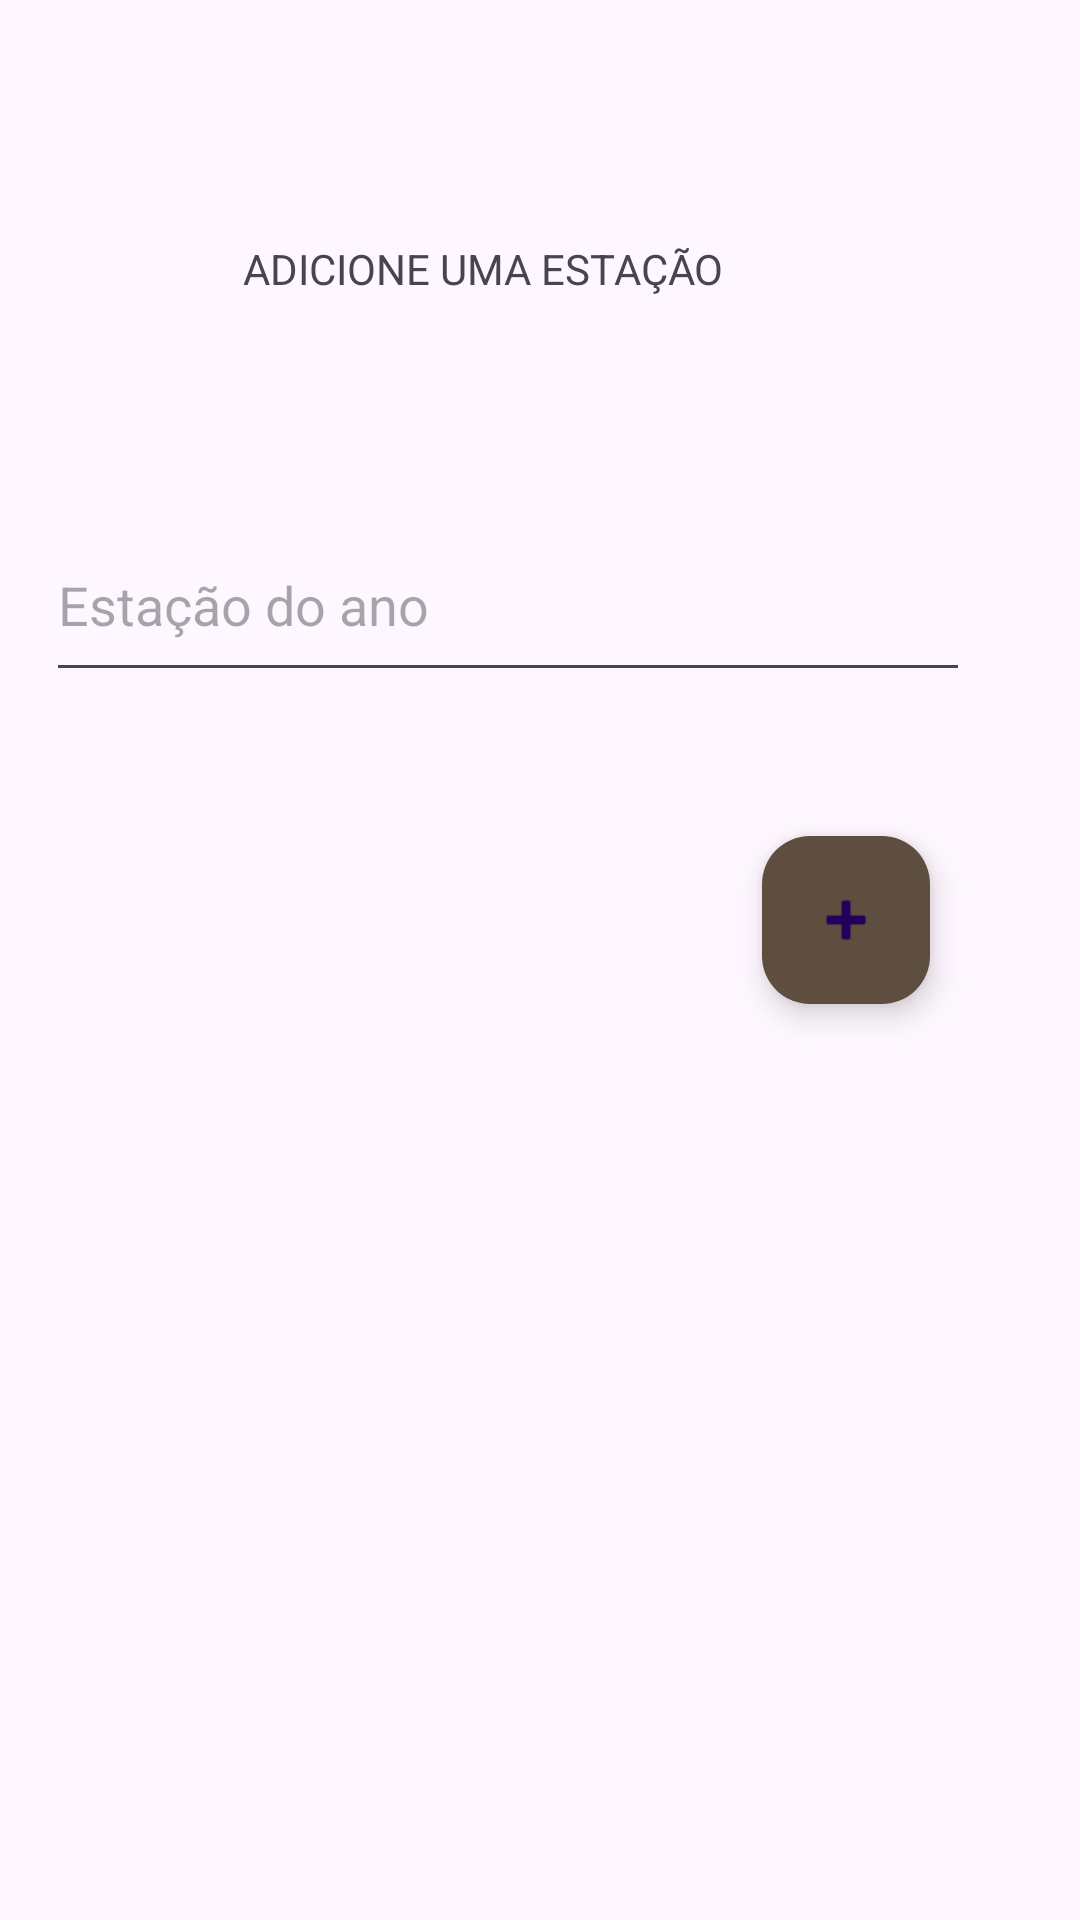

Icon click points for this 1080px×1920px phone screenshot, format (x=x, y=y):
add: (x=846, y=920)
